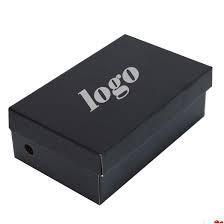box: (8, 33, 213, 206)
